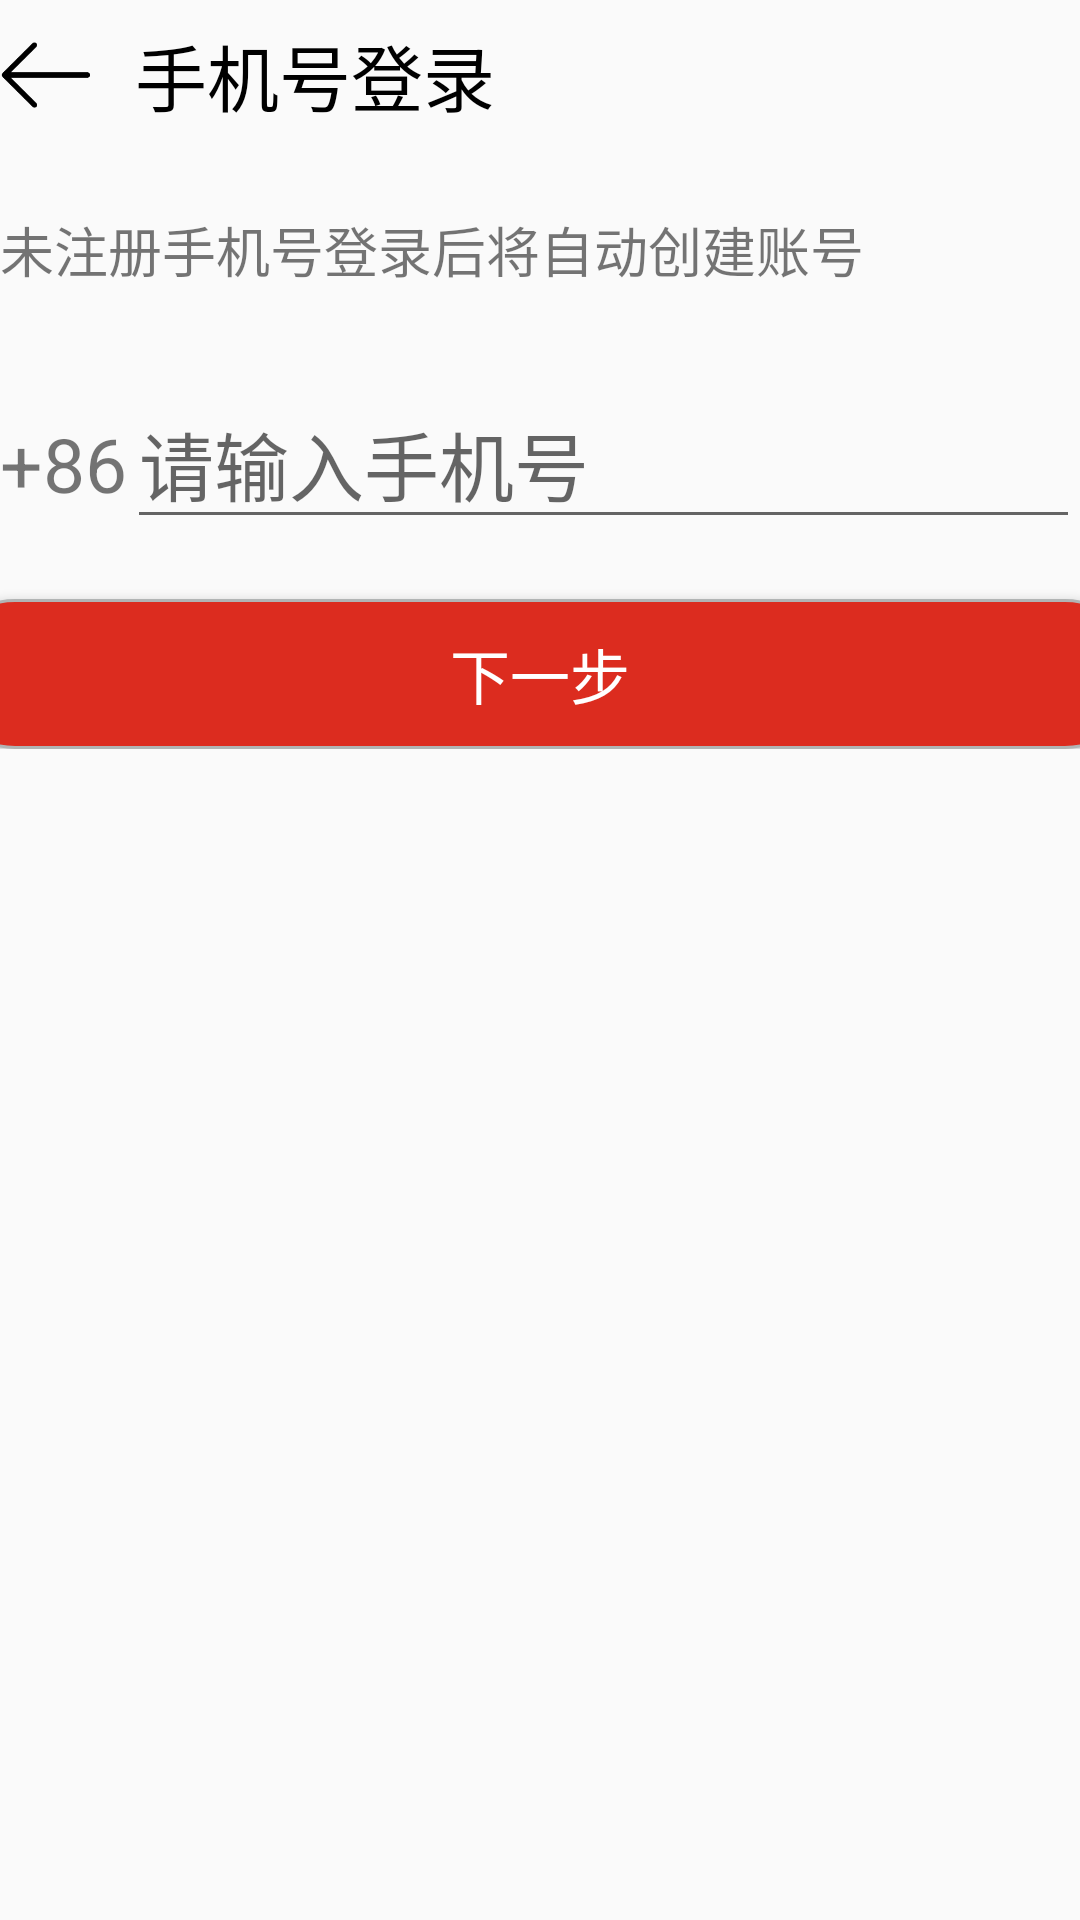

Icons on this 1080 x 1920 Android screen, each with the point to tap as [x,y]:
fanhui: [45,75]
